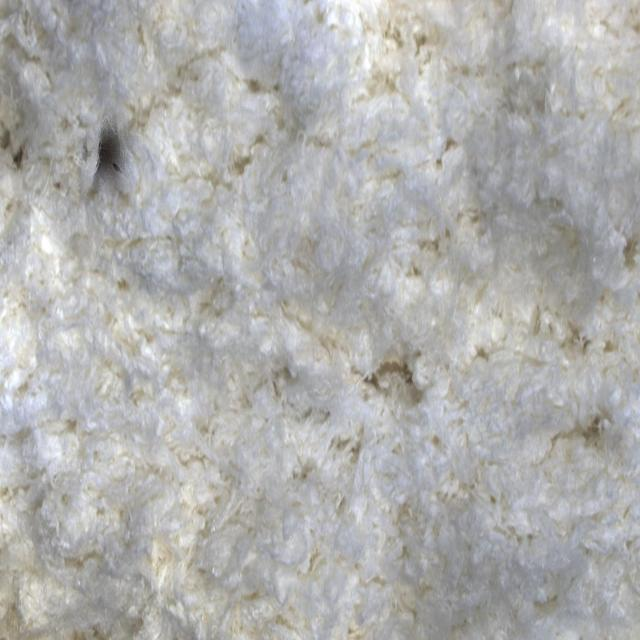dust: (65, 91, 162, 212)
